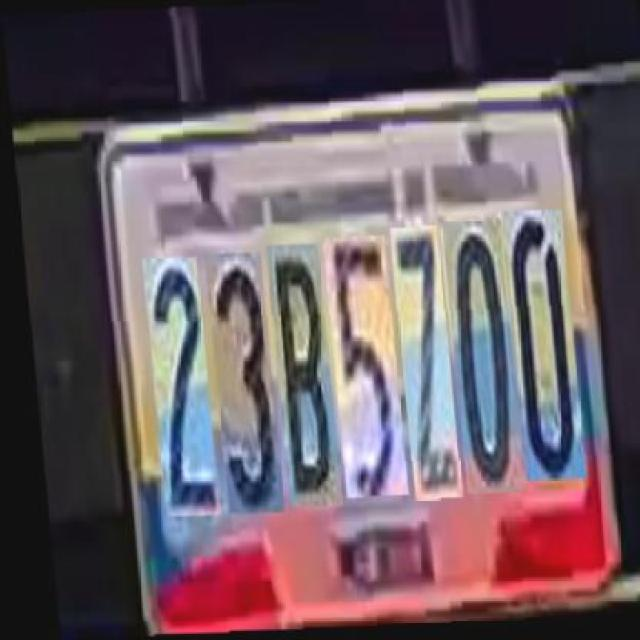0: (496, 210, 576, 481)
2: (135, 248, 208, 506)
3: (198, 245, 272, 506)
5: (316, 232, 396, 493)
b: (259, 238, 330, 500)
o: (437, 218, 514, 492)
z: (383, 223, 451, 497)
